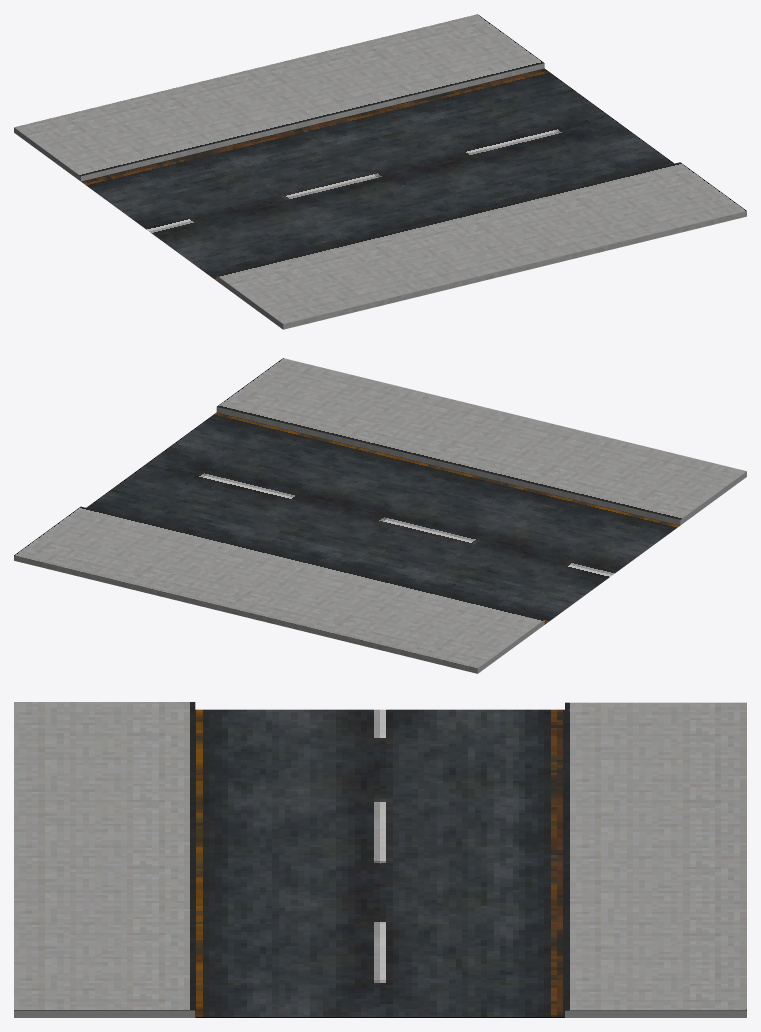
Rendered from roadwithside_01.glb.
The picture shows the model from 3 angles, top to bottom: view 1: azimuth 30°, elevation 25°; view 2: azimuth 150°, elevation 25°; view 3: azimuth 270°, elevation 25°; orthographic projection. The views are drawn at different scales.
Parts seen in each view (by area): view 1: Plane; view 2: Plane; view 3: Plane.
Part boxes in pixels (x1,y1,x2,y2): Plane: (14,14,746,329); Plane: (14,358,746,673); Plane: (14,702,746,1017).
Size of the model in its own units: 3.95 by 0.0456 by 3.97.
1 material, 1 textured.
